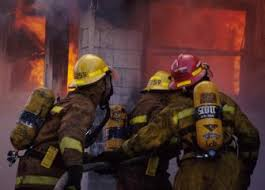emergent: (12, 53, 111, 190), (169, 53, 251, 189), (110, 63, 171, 183)
